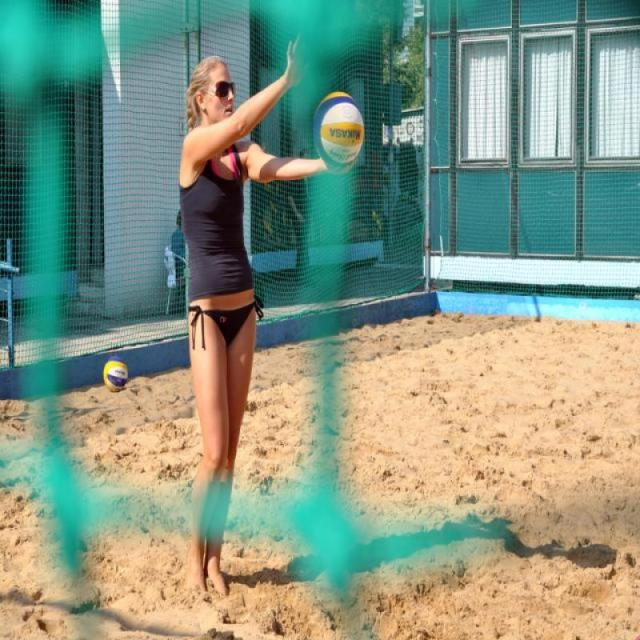volleyball: (314, 90, 366, 172), (103, 358, 131, 393)
